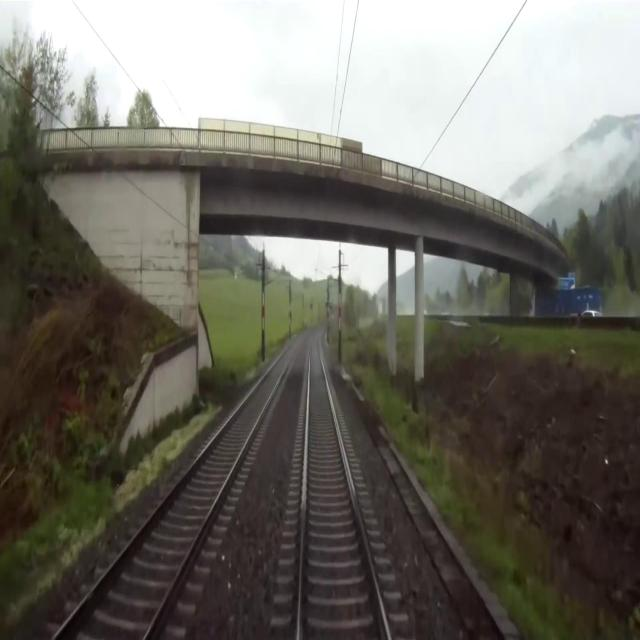rail-track: (57, 334, 301, 639), (301, 328, 386, 639)
